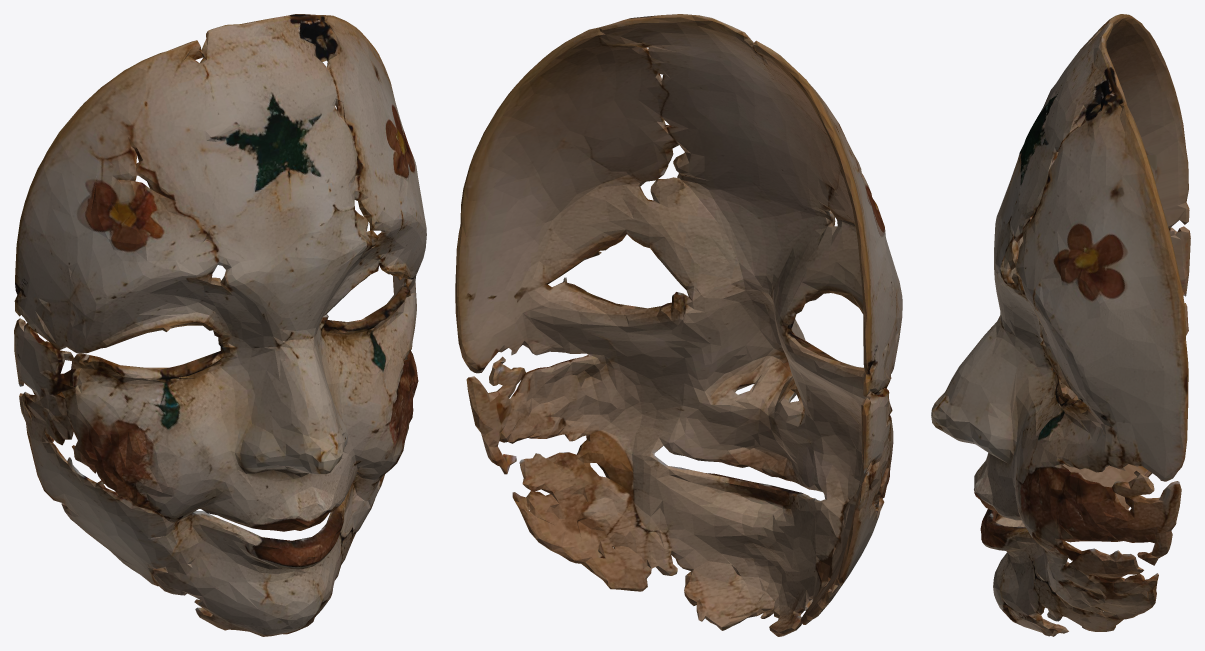
File: placeholder-watching-mask-1f.glb
3 renders of one model, left to right at view 1: azimuth 30°, elevation 25°; view 2: azimuth 150°, elevation 25°; view 3: azimuth 270°, elevation 25°, orthographic. The views are drawn at different scales.
Visible parts, largest first — view 1: model_textured.obj; view 2: model_textured.obj; view 3: model_textured.obj.
Part boxes in pixels (x1,y1,x2,y2): model_textured.obj: [14, 14, 426, 636]; model_textured.obj: [455, 14, 902, 636]; model_textured.obj: [931, 14, 1190, 636].
Bounding box in the file's own units: 1.36 × 1.99 × 0.7915.
Materials: 1 (1 with a texture image).
